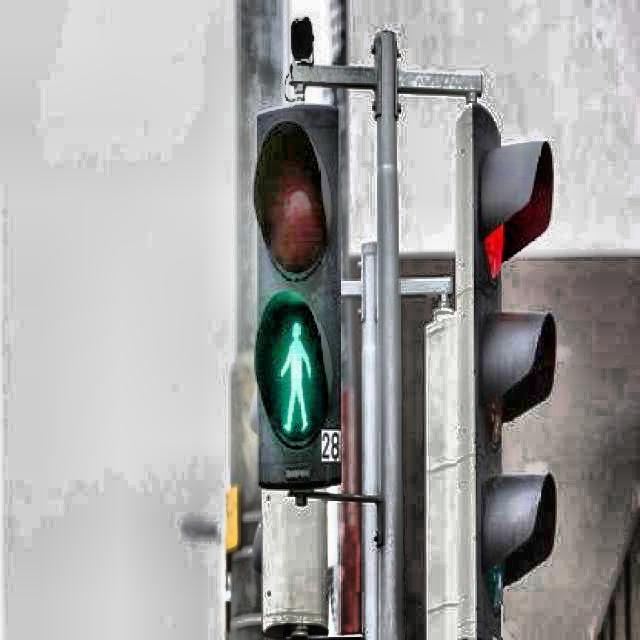semaforo pedestre: (182, 77, 428, 550)
